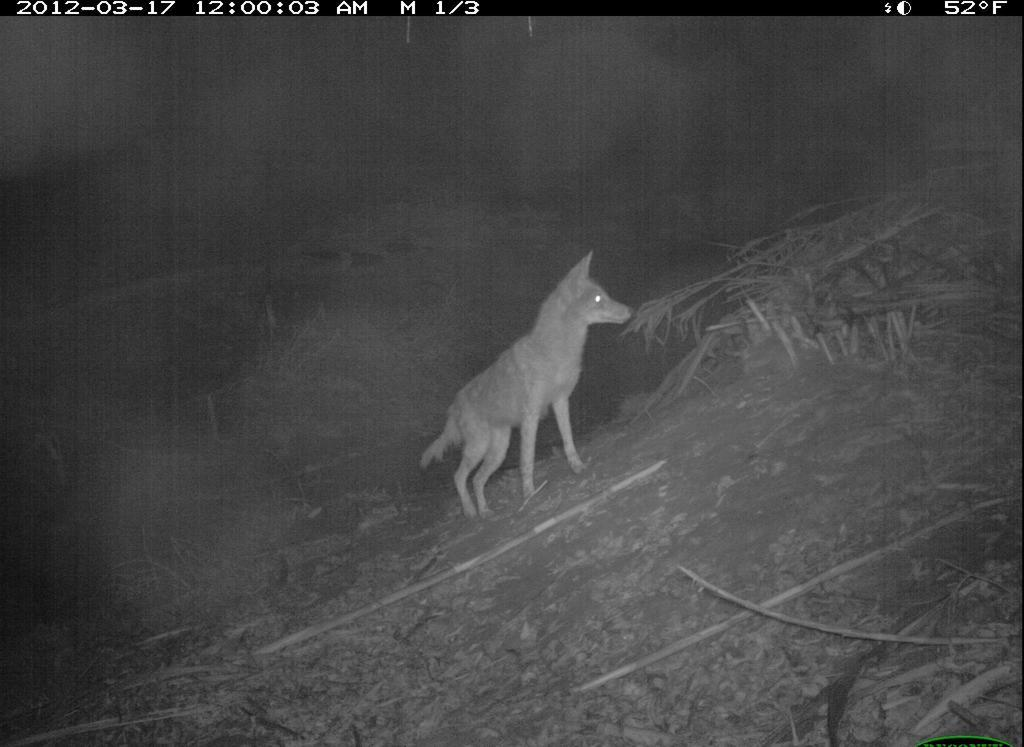coyote: (424, 245, 647, 521)
